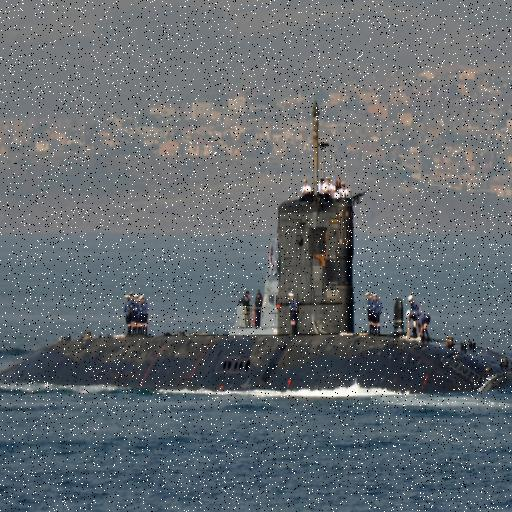submarine: (1, 195, 512, 395)
